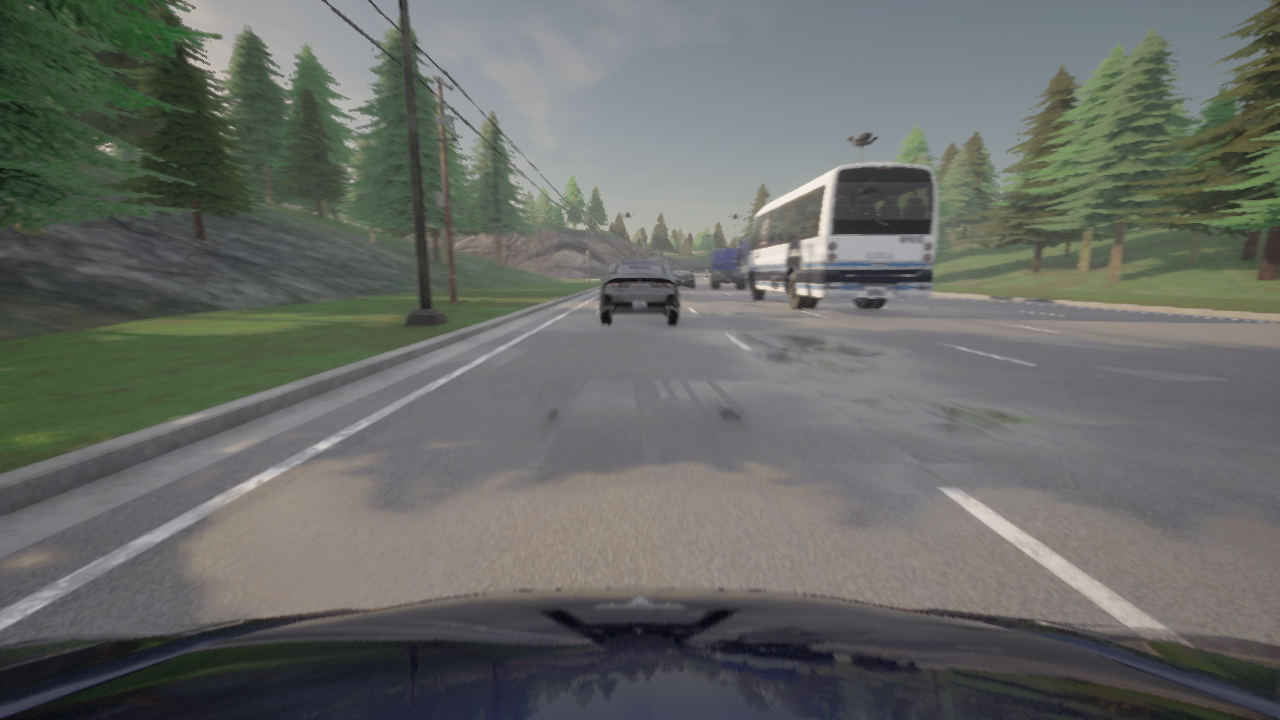cyclist: (0, 588, 1279, 719), (739, 162, 937, 309), (600, 262, 679, 324), (708, 249, 745, 288), (669, 268, 694, 288), (624, 259, 654, 261), (668, 268, 674, 273)
